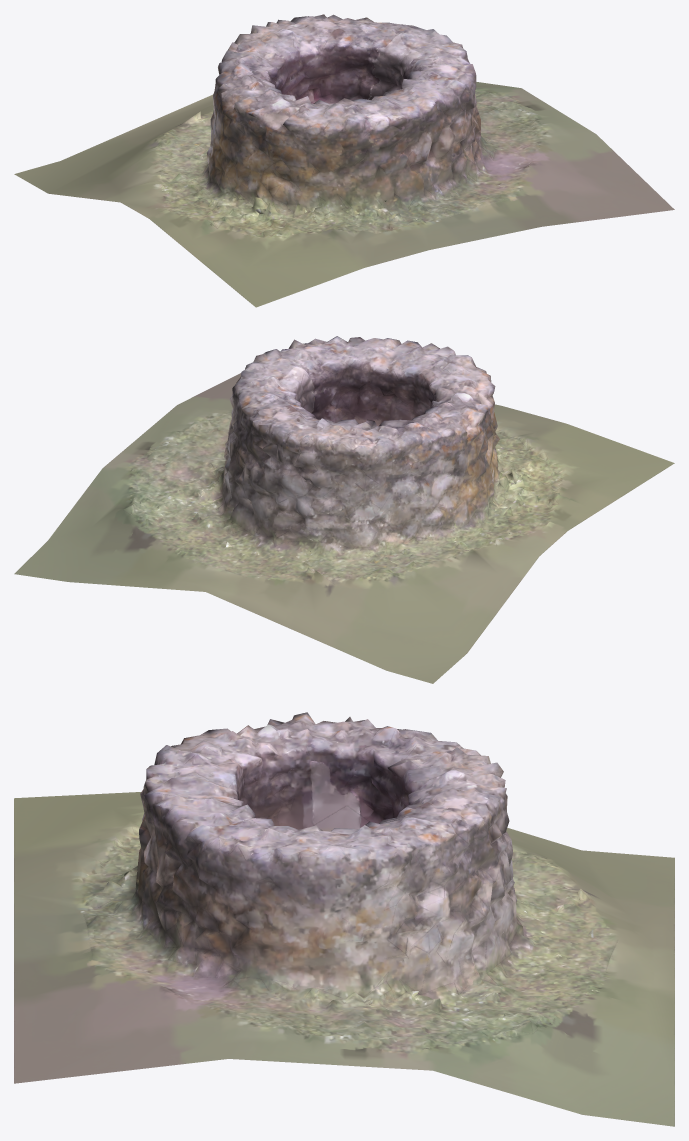
File: fountain.fbx
3 views of the same model, one above another, from view 1: azimuth 30°, elevation 25°; view 2: azimuth 150°, elevation 25°; view 3: azimuth 270°, elevation 25° (orthographic). The views are drawn at different scales.
Visible parts, largest first — view 1: fountain_low_poly; view 2: fountain_low_poly; view 3: fountain_low_poly.
Boxes of the visible parts, x1,y1,x2,y2 form: fountain_low_poly: [14, 14, 674, 307]; fountain_low_poly: [14, 336, 674, 683]; fountain_low_poly: [14, 712, 674, 1126].
Bounding box in the file's own units: 294 × 106 × 294.
1 material, 1 textured.
